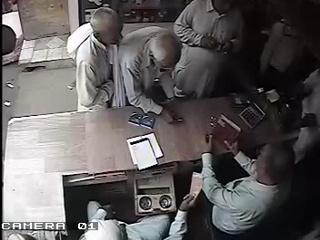Normal: (192, 115, 298, 240), (172, 0, 246, 100), (117, 26, 183, 123), (77, 190, 196, 240)
shoplifting: (66, 7, 124, 112)
